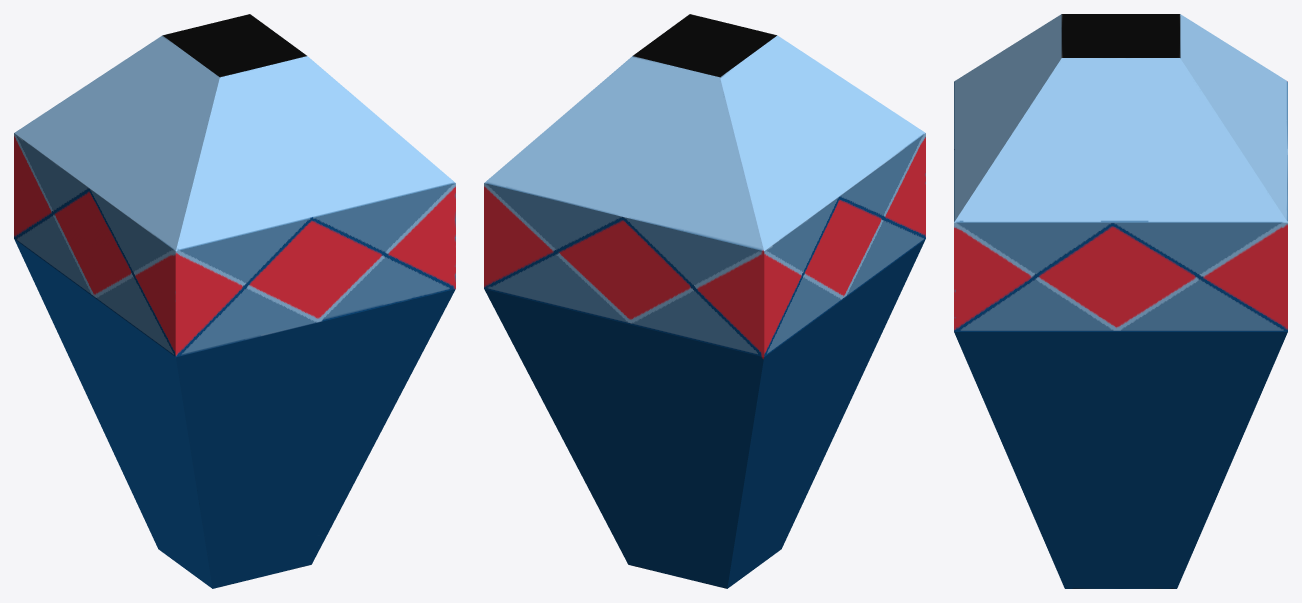
The model's file is enemy.obj.
3 renders of one model, left to right at view 1: azimuth 30°, elevation 25°; view 2: azimuth 150°, elevation 25°; view 3: azimuth 270°, elevation 25°, orthographic. The views are drawn at different scales.
Parts seen in each view (by area): view 1: 立方体; view 2: 立方体; view 3: 立方体.
Part boxes in pixels (<box>): 立方体: <box>14,14,455,588</box>; 立方体: <box>484,14,925,588</box>; 立方体: <box>954,14,1287,588</box>.
Size of the model in its own units: 1 by 1.74 by 1.
